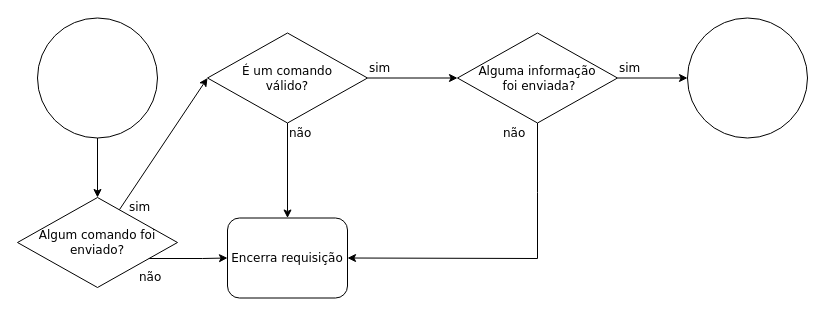
Image size: 825x315. Some labels were removed from this diagram. Here are the shapes that lost their labels. From the top down, the centre of each, then its label:
At point 97,77: "Validação das Informações".
At point 747,77: "Autenticação".
